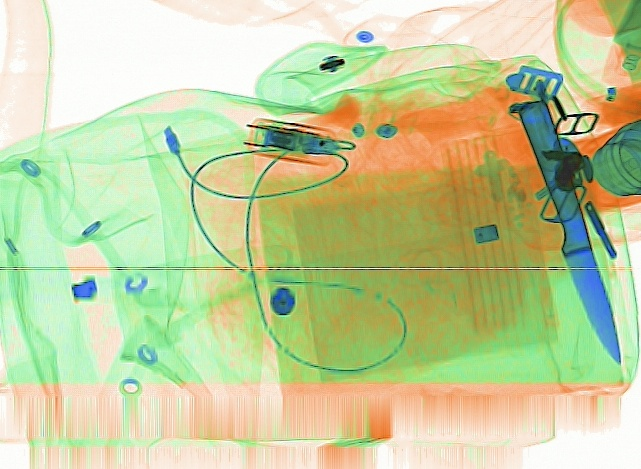knife: (514, 95, 621, 364)
